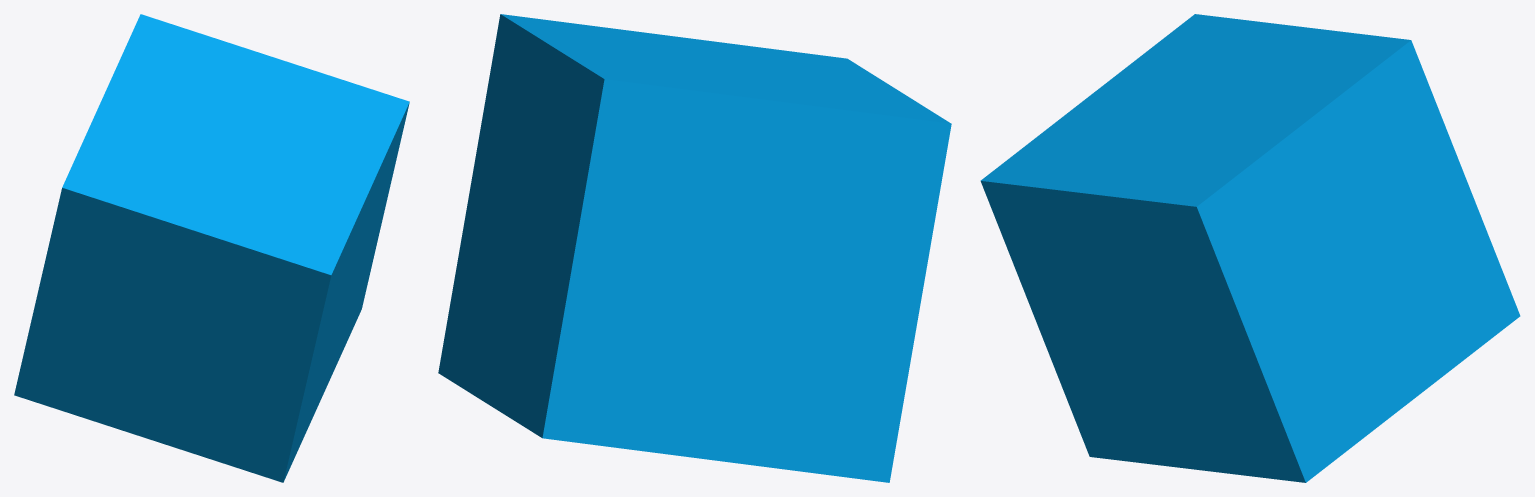
File: locugobo.glb
3 renders of one model, left to right at view 1: azimuth 30°, elevation 25°; view 2: azimuth 150°, elevation 25°; view 3: azimuth 270°, elevation 25°, orthographic. The views are drawn at different scales.
Bounding box in the file's own units: 0.2535 × 0.2543 × 0.2991.
1 material, 1 textured.
